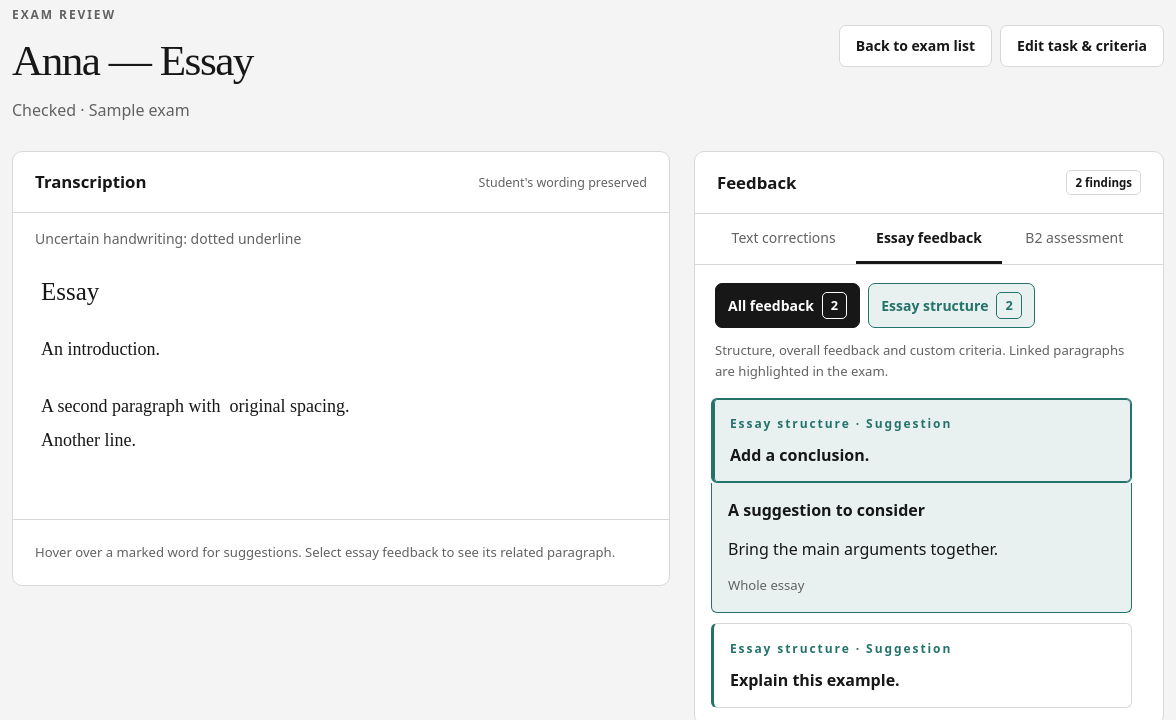
Scenario: ReviewScreen and transcript ranges › locates paragraph feedback without inventing a location for whole-essay feedback
Expected: the text "Whole essay" is shown, top-left (728, 576), bottom-right (804, 594)
Expected: the button "Show paragraph" is not shown
Click the button "Essay structure · Suggestion Explain this example." at x=790, y=648, box top-left (711, 623), bottom-right (1132, 708)
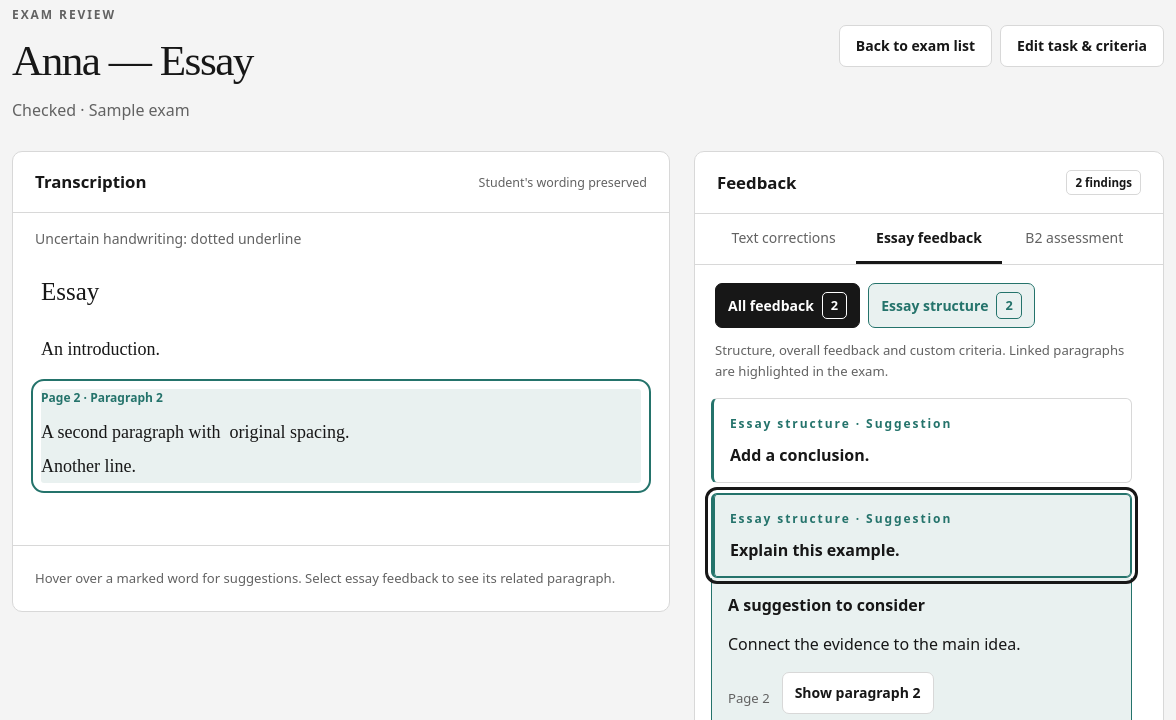
Expected: the text "Page 2" is shown, top-left (41, 389), bottom-right (641, 483)
Expected: the text "Paragraph 2" is shown, top-left (41, 389), bottom-right (641, 483)
Click the button "Show paragraph 2" at x=858, y=693, box top-left (782, 672), bottom-right (934, 714)
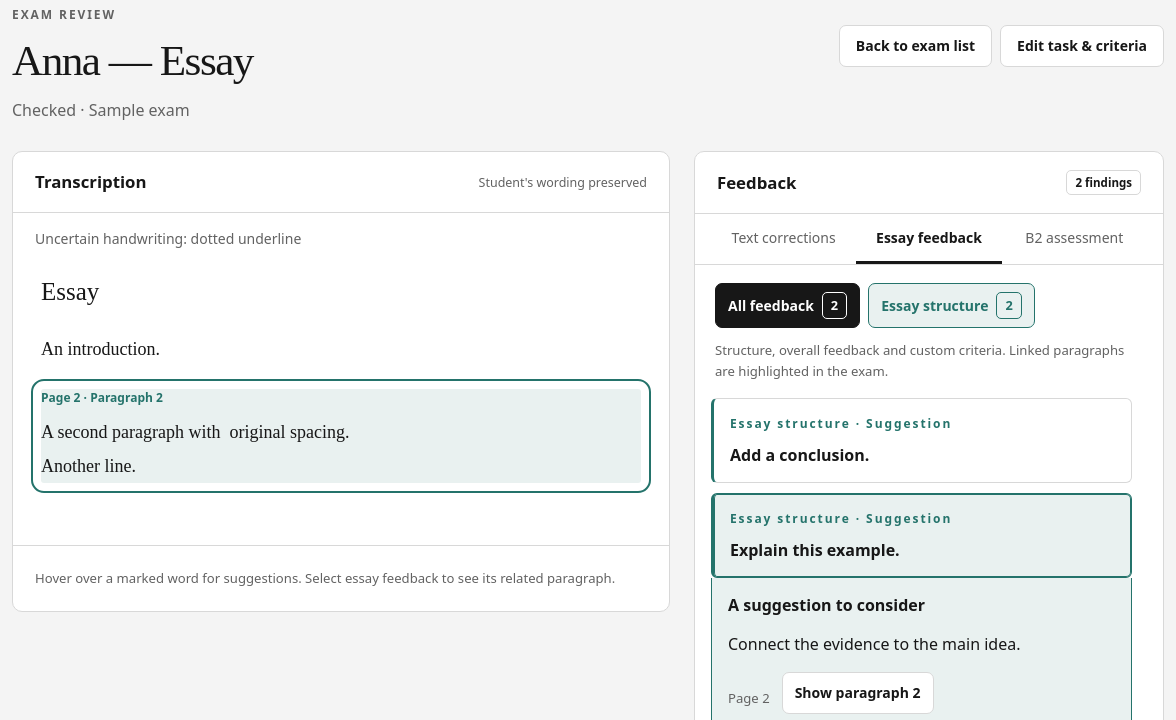
Click the button "Essay structure · Suggestion Add a conclusion." at x=790, y=424, box top-left (711, 398), bottom-right (1132, 483)
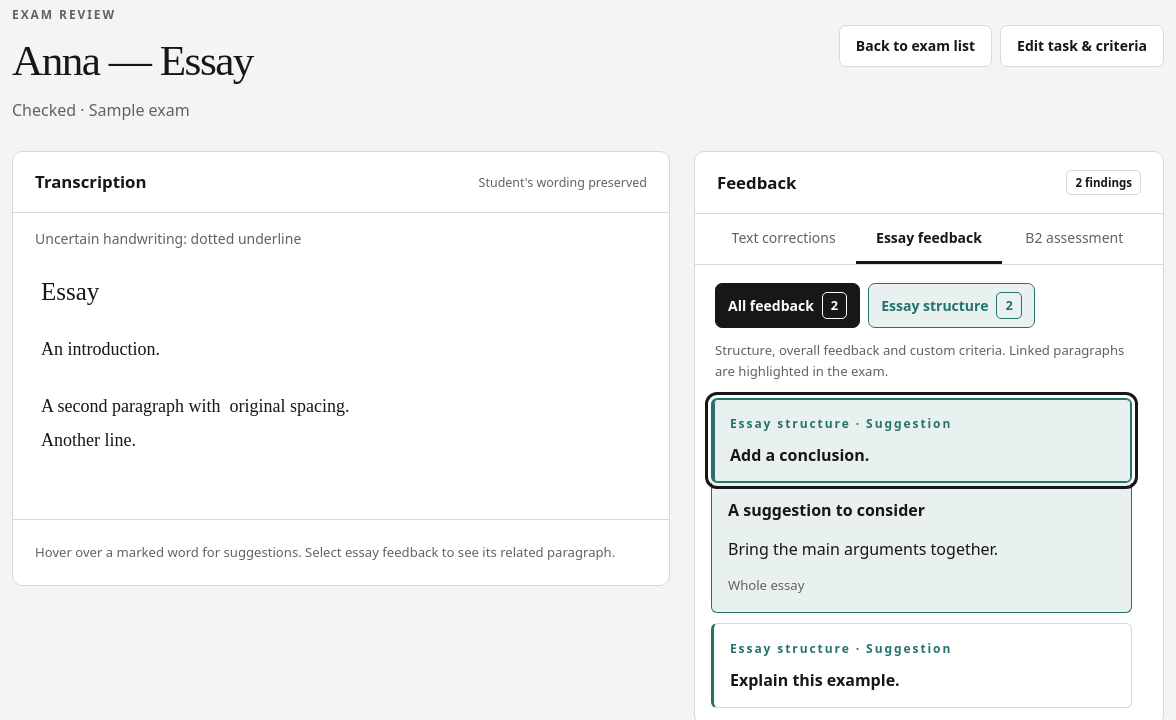
Expected: the text "Whole essay" is shown, top-left (728, 576), bottom-right (804, 594)
